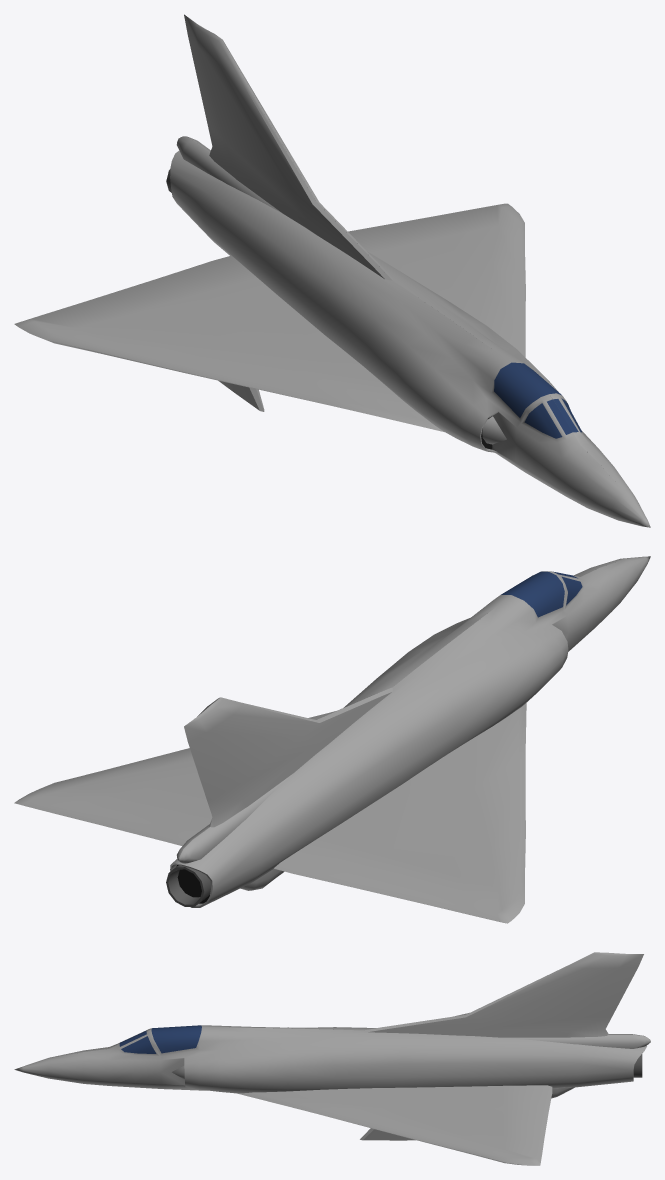
File: MIRAGE_III.glb
3 renders of one model, top to bottom at view 1: azimuth 30°, elevation 25°; view 2: azimuth 150°, elevation 25°; view 3: azimuth 270°, elevation 25°, orthographic. The views are drawn at different scales.
Parts seen in each view (by area): view 1: mirage_III; view 2: mirage_III; view 3: mirage_III.
Part boxes in pixels (x1,y1,x2,y2): mirage_III: (14,14,650,527); mirage_III: (14,556,650,923); mirage_III: (14,952,650,1165).
Bounding box in the file's own units: 9.84 × 4.16 × 16.3.
